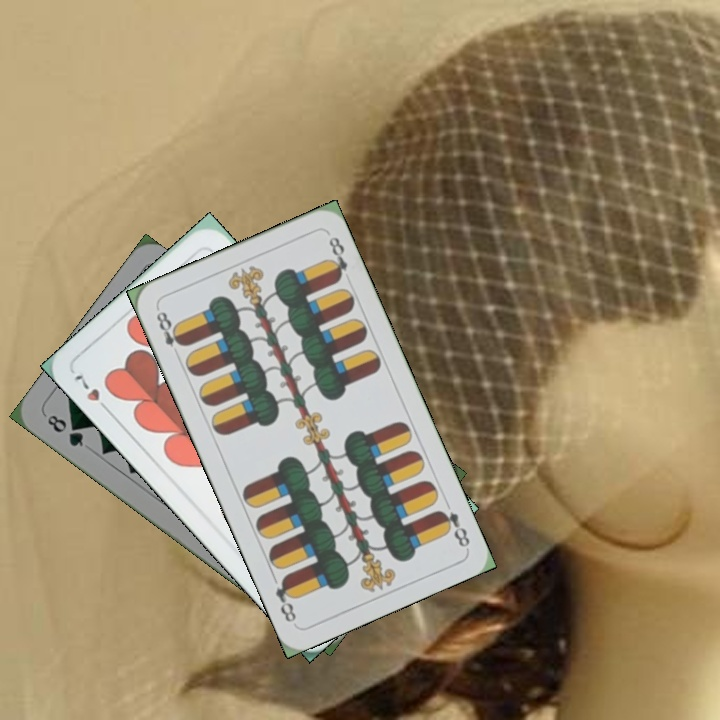E8: (433, 506, 473, 550), (152, 304, 188, 350)
G8: (43, 410, 86, 450)
H7: (69, 367, 114, 417)
